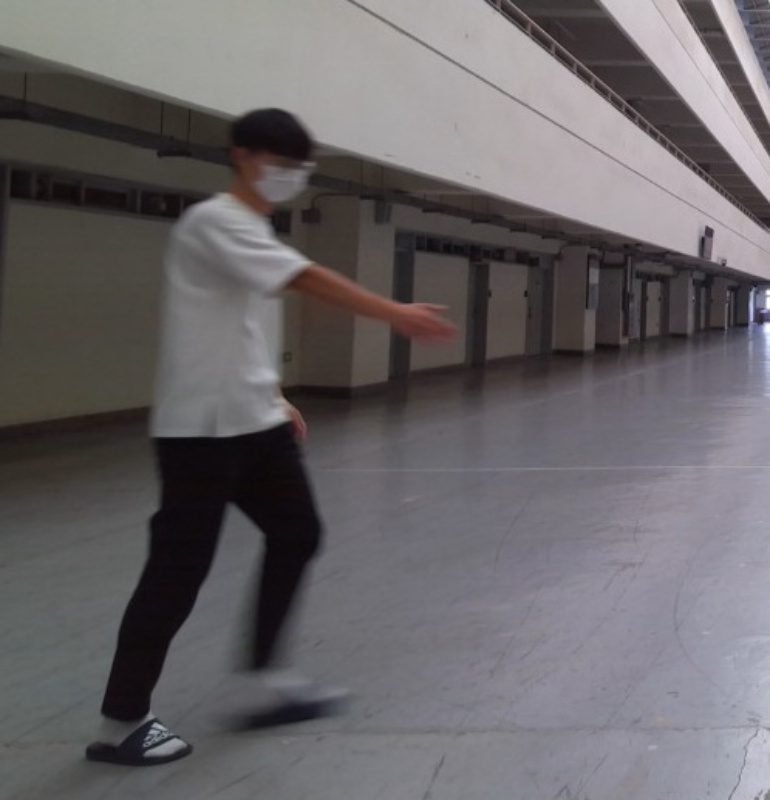person: (80, 104, 465, 766)
